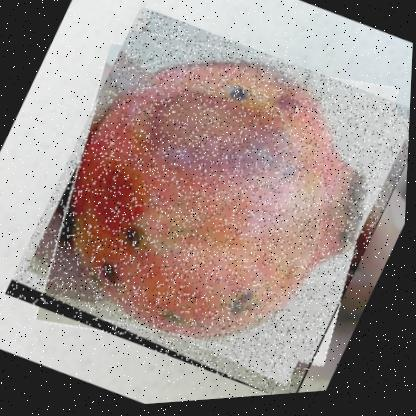pomegranate_rotten: (1, 0, 415, 414)
